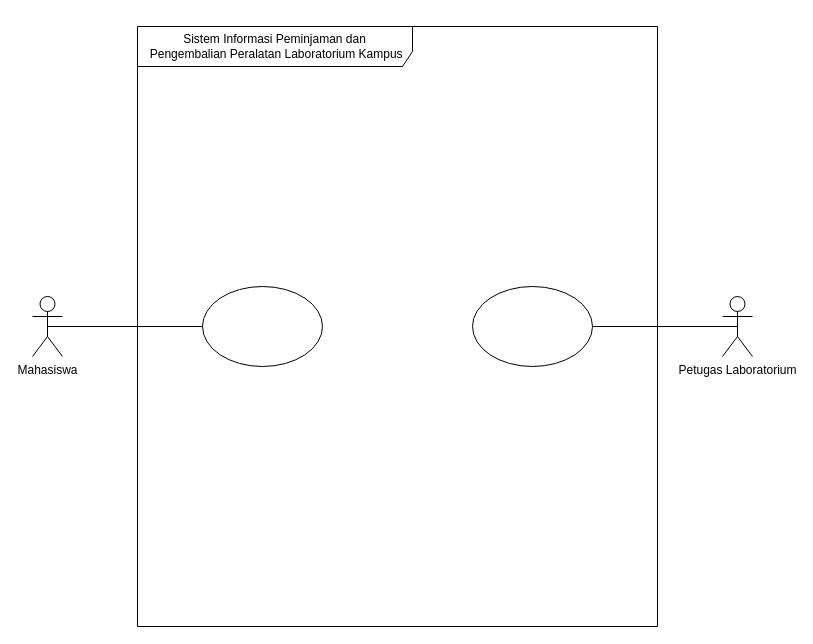
Image size: 813x644. Some labels were removed from this diagram. The shapes that lost their labels are listed below. From the top down, each one's box as (x1, y1, x2, y2) in pixels, then its label:
(202, 286, 322, 366): Lihat ketersiadaan peralatan
(472, 286, 592, 366): Kelola data peralatan
